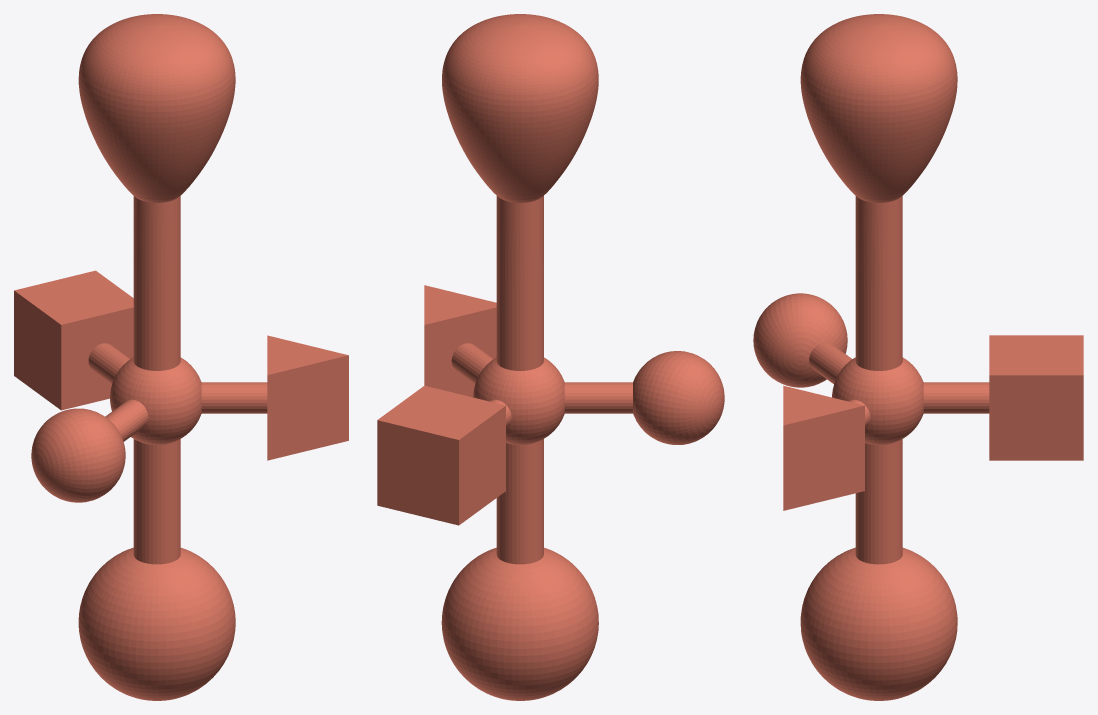
Rendered from ts_sn2 -1feb24.fbx.
3 renders of one model, left to right at view 1: azimuth 30°, elevation 25°; view 2: azimuth 150°, elevation 25°; view 3: azimuth 270°, elevation 25°, orthographic.
Parts seen in each view (by area): view 1: imagetostl_mesh0; view 2: imagetostl_mesh0; view 3: imagetostl_mesh0.
Boxes of the visible parts, x1,y1,x2,y2 form: imagetostl_mesh0: [14, 14, 348, 700]; imagetostl_mesh0: [377, 14, 724, 700]; imagetostl_mesh0: [753, 14, 1083, 700].
Bounding box in the file's own units: 3528 × 7453 × 3333.
